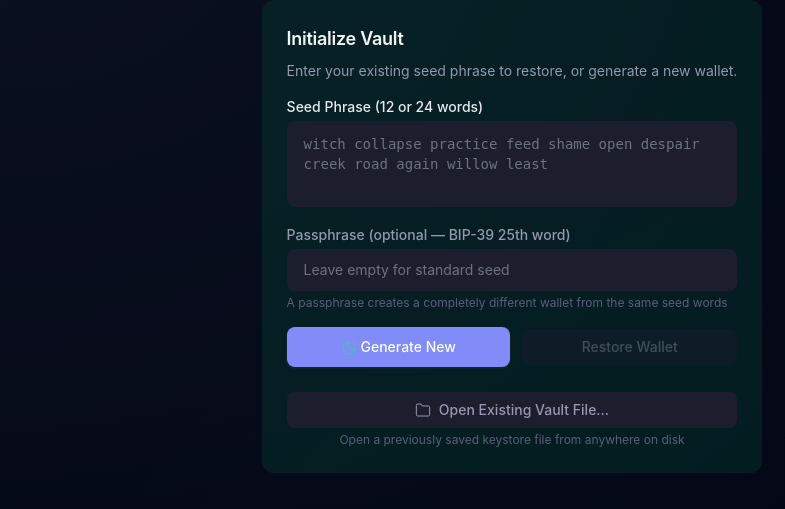
Test case: VaultInit.svelte › shows backup step after successful mnemonic generation
Click the button "Generate New": (398, 347) [287, 327, 510, 367]
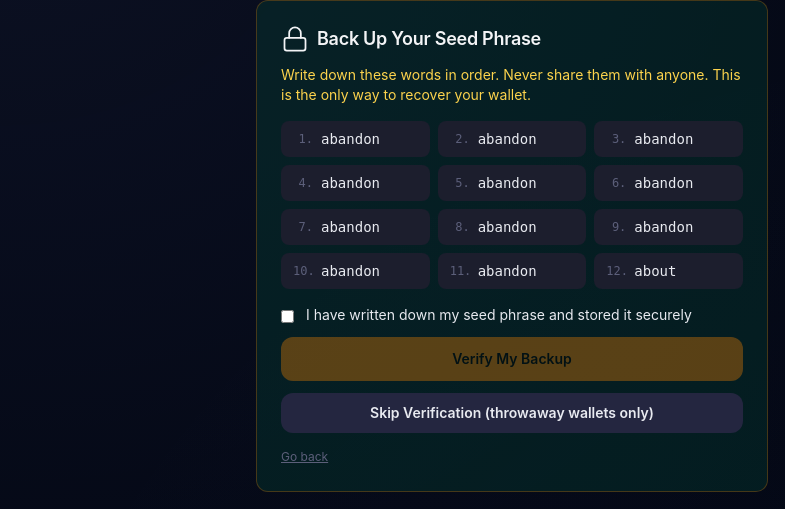
Result: the heading "Back Up Your Seed Phrase" is shown at [317, 25, 541, 53]
